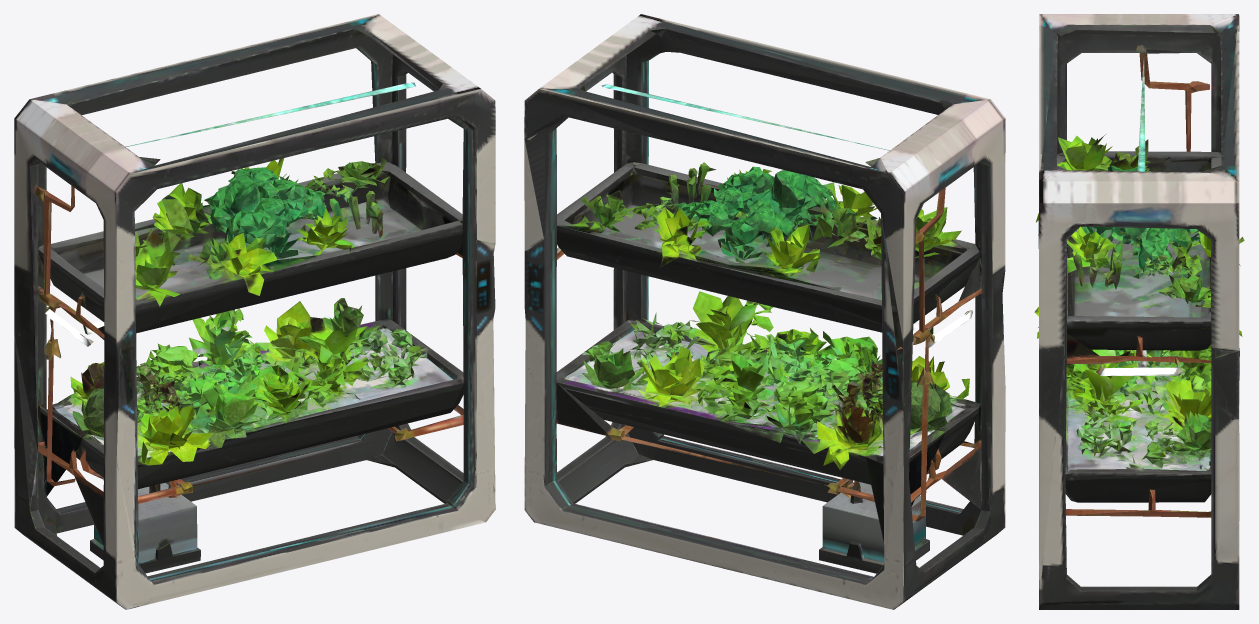
The model's file is hydroponic-rack.glb.
3 views of the same model, side by side, from view 1: azimuth 30°, elevation 25°; view 2: azimuth 150°, elevation 25°; view 3: azimuth 270°, elevation 25° (orthographic). The views are drawn at different scales.
Visible parts, largest first — view 1: hydroponic_rack_000; view 2: hydroponic_rack_000; view 3: hydroponic_rack_000.
Boxes of the visible parts, x1=… form: hydroponic_rack_000: x1=14, y1=14, x2=495, y2=609; hydroponic_rack_000: x1=524, y1=14, x2=1005, y2=609; hydroponic_rack_000: x1=1034, y1=14, x2=1244, y2=609.
Bounding box in the file's own units: 2.01 × 2.2 × 0.9833.
Materials: 1 (1 with a texture image).
